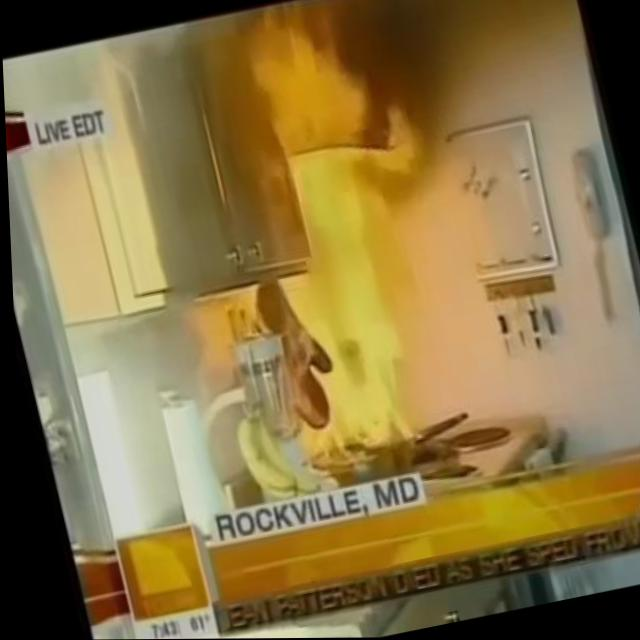fire: (227, 124, 448, 486)
